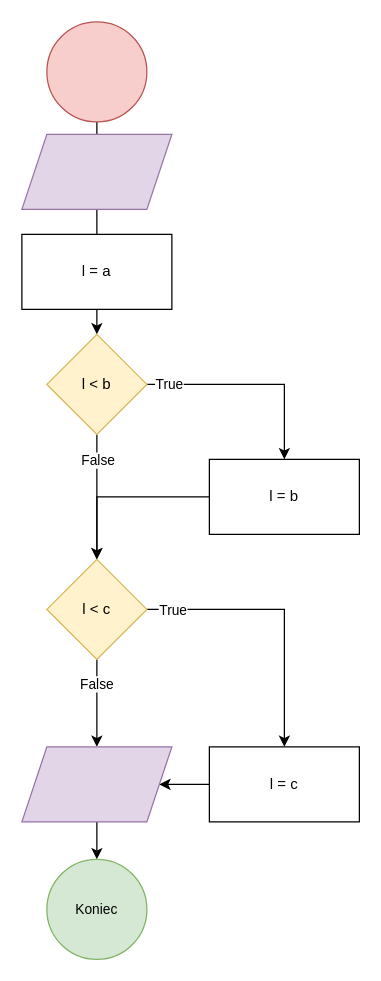
Some shapes in this 381 by 981 pixel diagram are drawn without their labels. The centre of each missing label's shape, as x and y in pixels:
"pobierz a,b,c" belongs at (96,171).
"Start" belongs at (96,71).
"wypisz l" belongs at (96,784).
